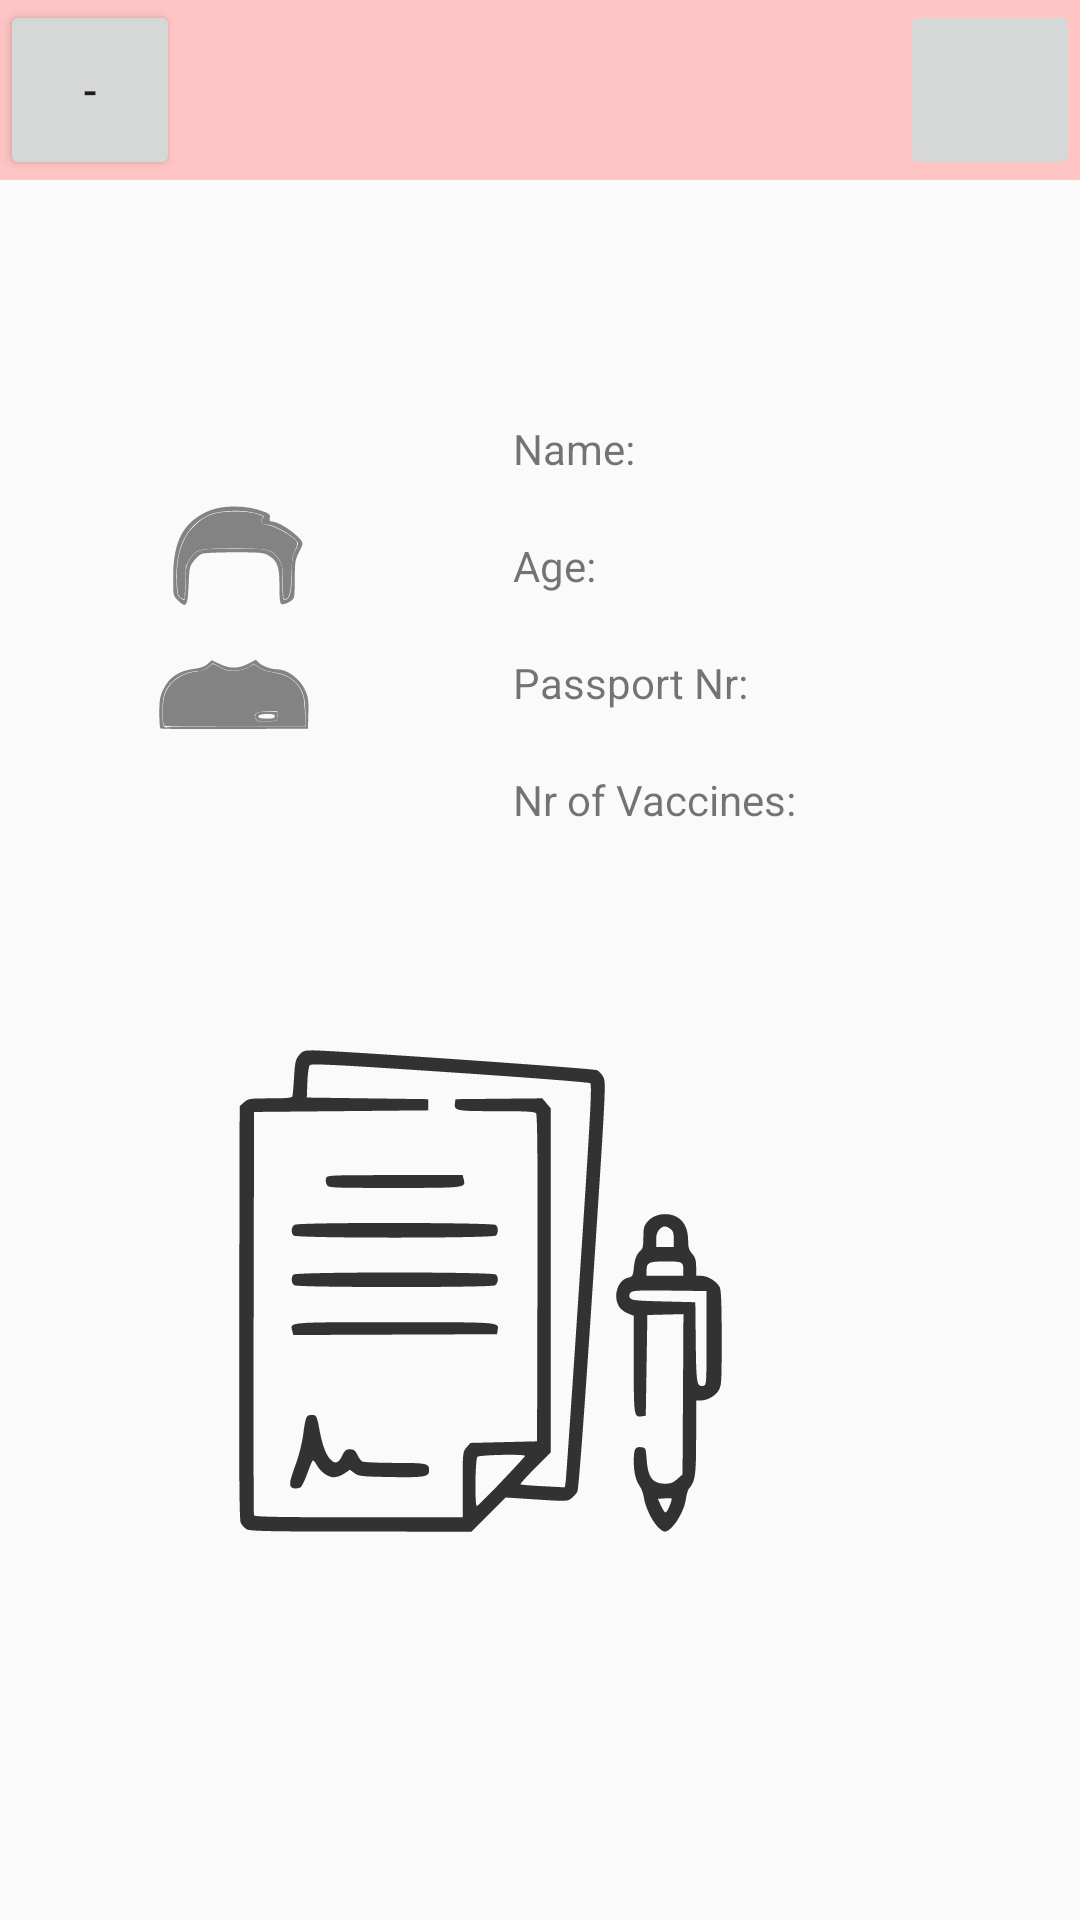

Where to tap for icons on this 1080*1920 app screen, as (x=x, y=y):
profilepic: (x=234, y=617)
